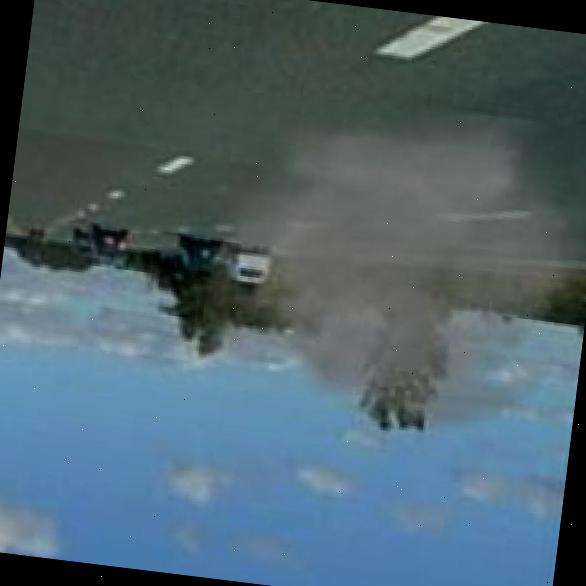smoke: (169, 81, 586, 477)
